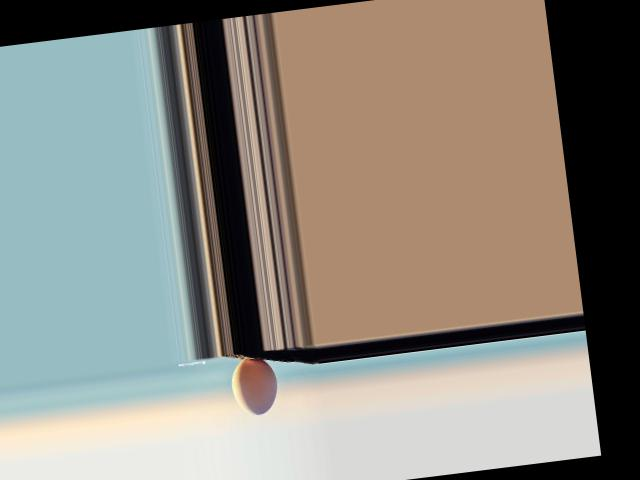egg: (228, 355, 280, 418)
